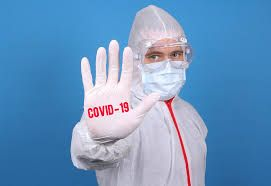with-mask: (137, 36, 200, 108)
